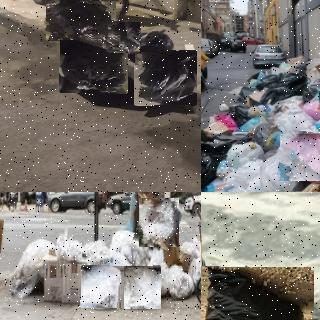Garbage: (201, 266, 312, 320), (60, 39, 128, 94), (134, 51, 197, 105), (43, 0, 118, 45), (136, 196, 182, 249), (278, 131, 320, 183), (117, 266, 161, 309), (81, 266, 124, 308), (128, 29, 176, 64), (257, 73, 308, 101), (106, 22, 141, 54), (225, 141, 263, 167)
